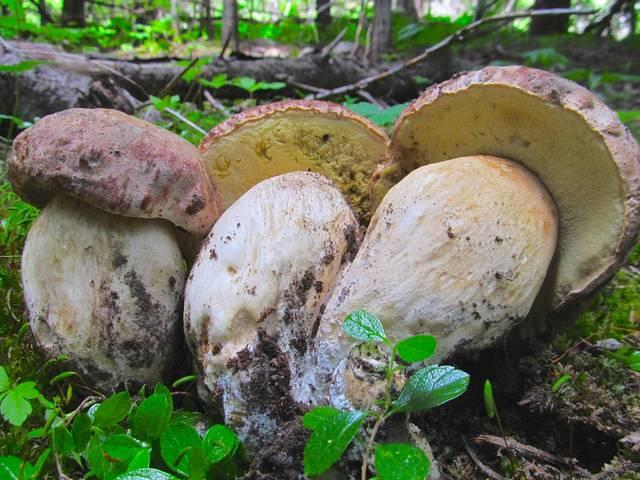Edible Mushroom: (181, 98, 398, 471), (367, 63, 639, 342), (310, 152, 560, 414), (6, 105, 222, 394)
